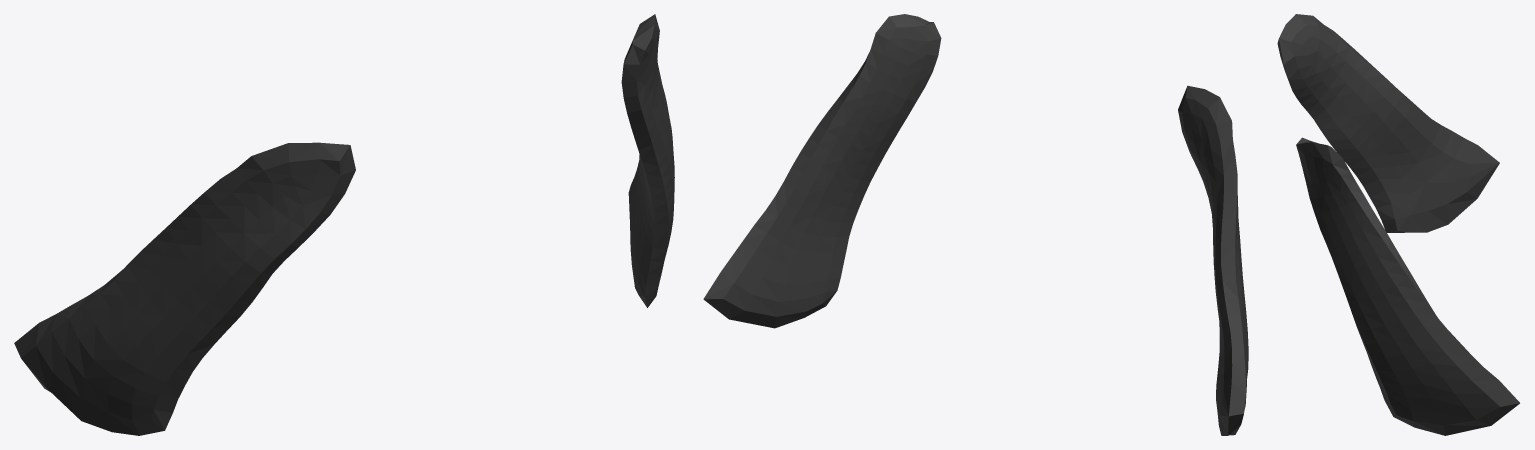
File: DIP_coll.glb
3 renders of one model, left to right at view 1: azimuth 30°, elevation 25°; view 2: azimuth 150°, elevation 25°; view 3: azimuth 270°, elevation 25°, orthographic. The views are drawn at different scales.
Parts seen in each view (by area): view 1: DIP_coll; view 2: DIP_coll; view 3: DIP_coll.
Boxes of the visible parts, box(x1,y1,x2,y2) form: DIP_coll: box(14, 14, 674, 435); DIP_coll: box(703, 14, 1248, 435); DIP_coll: box(1277, 14, 1519, 435).
Bounding box in the file's own units: 2.22 × 1.14 × 0.9405.
Materials: 1 (1 with a texture image).
